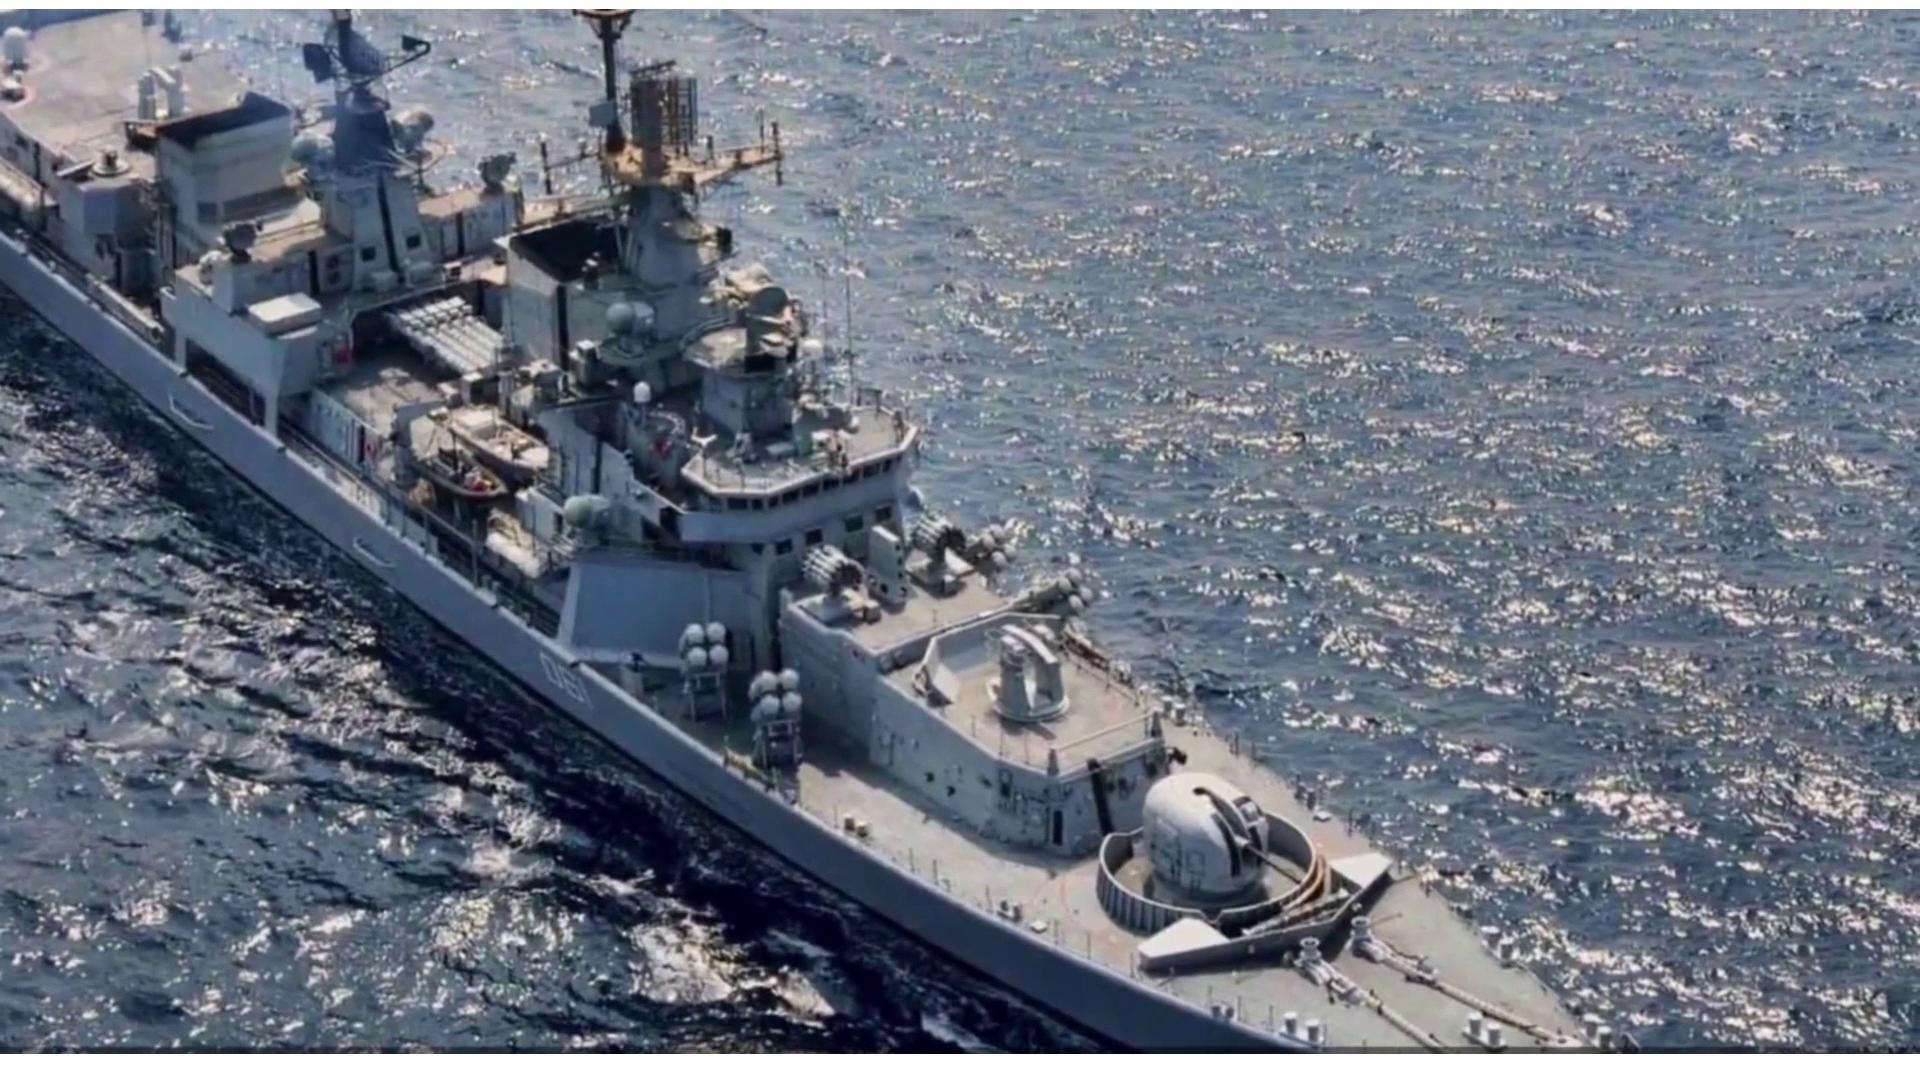OCR: (530, 647, 608, 728)
